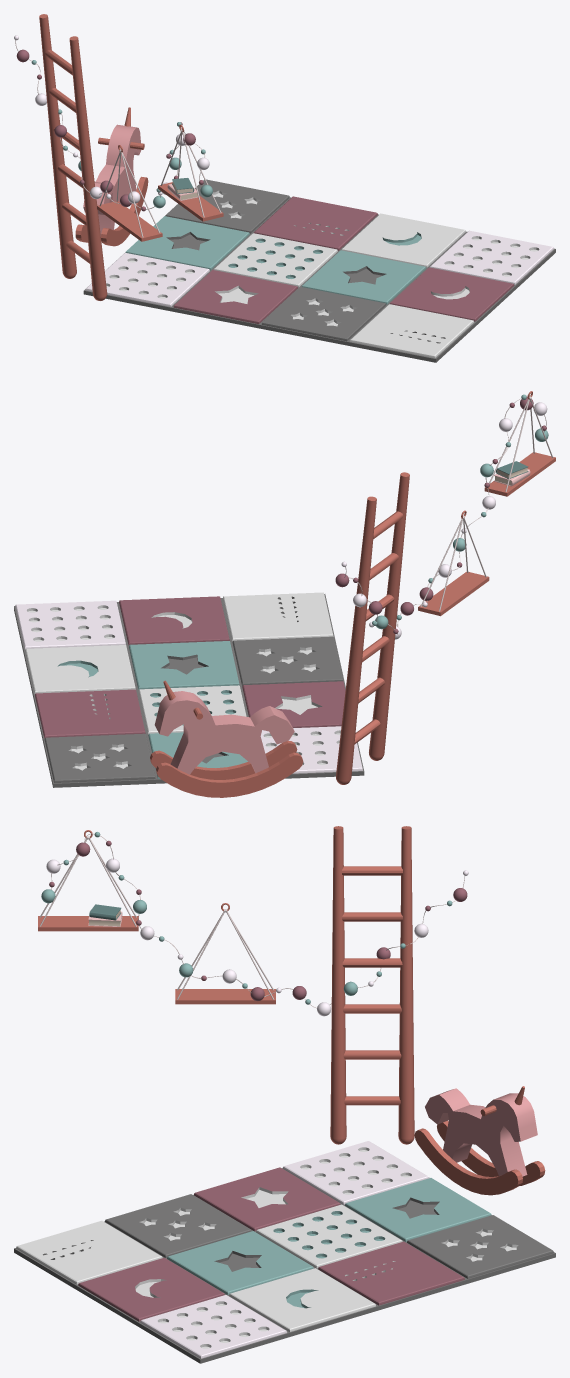
The model's file is Furn5_playzone_color3.fbx.
The picture shows the model from 3 angles, top to bottom: view 1: azimuth 30°, elevation 25°; view 2: azimuth 150°, elevation 25°; view 3: azimuth 270°, elevation 25°; orthographic projection. The views are drawn at different scales.
Visible parts, largest first — view 1: Плоскость.033; view 2: Плоскость.033; view 3: Плоскость.033.
Part boxes in pixels (bbox=[...]): Плоскость.033: bbox=[14, 14, 555, 362]; Плоскость.033: bbox=[14, 391, 555, 797]; Плоскость.033: bbox=[14, 826, 555, 1363].
Bounding box in the file's own units: 726 × 444 × 713.
